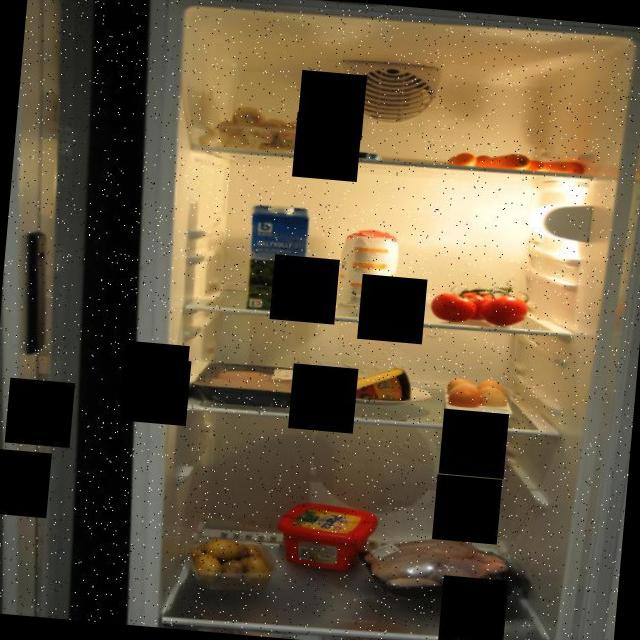Carne pollo: (353, 524, 536, 614), (186, 354, 315, 412)
Champiñones: (210, 100, 314, 155)
Huevos: (437, 372, 518, 417)
Leche: (237, 201, 313, 314)
Mantequilla: (270, 496, 382, 577)
Patata: (182, 532, 278, 594)
Queso: (324, 358, 414, 404)
Tomate: (427, 266, 537, 330)
Zanahoria: (442, 143, 592, 178)
chocolate: (302, 144, 386, 164)
sugar: (333, 224, 402, 314)
